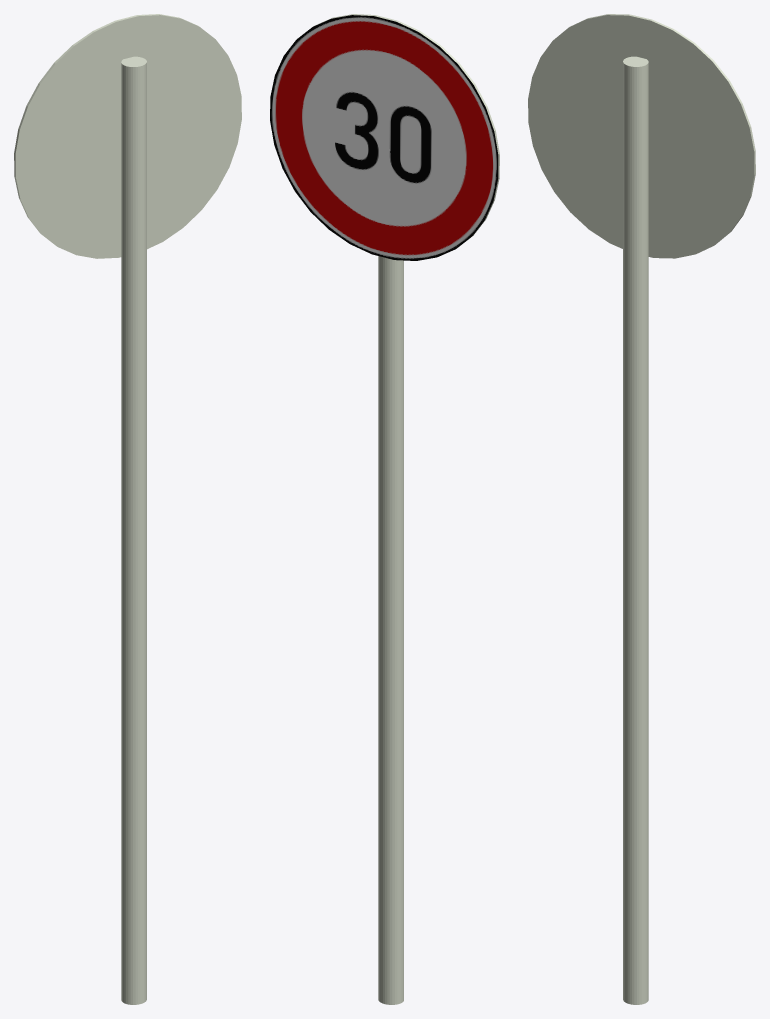
3 views of the same model, side by side, from view 1: azimuth 30°, elevation 25°; view 2: azimuth 150°, elevation 25°; view 3: azimuth 330°, elevation 25° (orthographic).
Parts seen in each view (by area): view 1: Circle.011, 30_tube; view 2: Circle.011, 30_tube; view 3: Circle.011, 30_tube.
Boxes of the visible parts, box(x1,y1,x2,y2) form: Circle.011: box(14, 14, 241, 258); 30_tube: box(121, 56, 146, 1004); Circle.011: box(270, 14, 499, 260); 30_tube: box(378, 256, 403, 1004); Circle.011: box(528, 14, 755, 258); 30_tube: box(623, 56, 648, 1004).
Bounding box in the file's own units: 0.4383 × 1.81 × 0.0437.
Materials: 3 (1 with a texture image).
